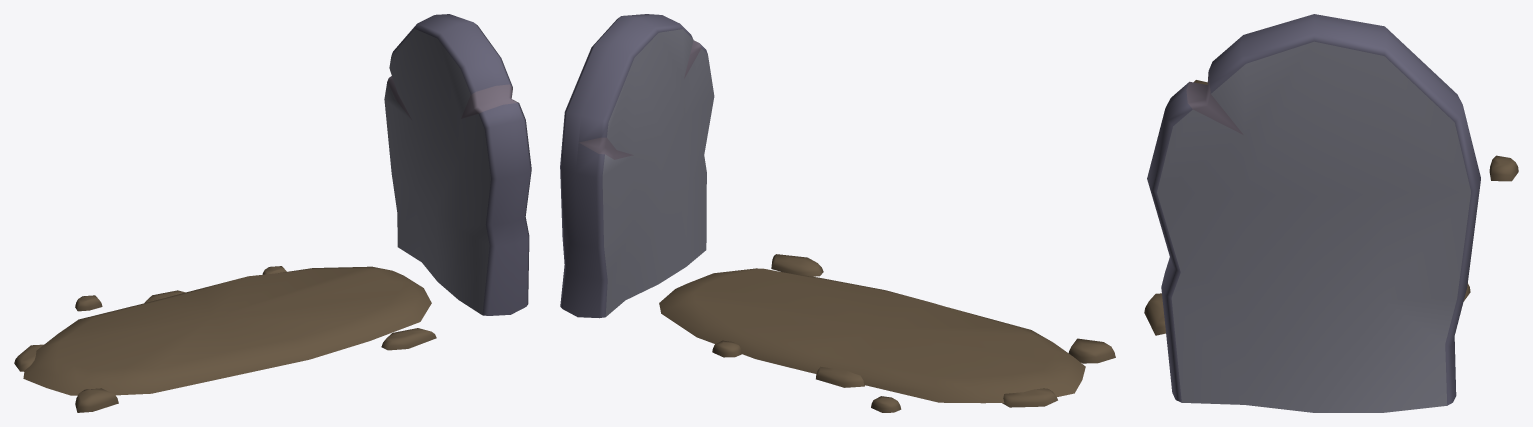
Rendered from P_Gravestone_01_LD.fbx.
The picture shows the model from 3 angles, left to right: view 1: azimuth 30°, elevation 25°; view 2: azimuth 150°, elevation 25°; view 3: azimuth 270°, elevation 25°; orthographic projection. The views are drawn at different scales.
Visible parts, largest first — view 1: P_Gravestone_01; view 2: P_Gravestone_01; view 3: P_Gravestone_01.
Boxes of the visible parts, x1=… form: P_Gravestone_01: x1=14, y1=14, x2=531, y2=412; P_Gravestone_01: x1=560, y1=14, x2=1115, y2=412; P_Gravestone_01: x1=1144, y1=14, x2=1518, y2=412.
Bounding box in the file's own units: 132 × 68.71 × 62.88.
